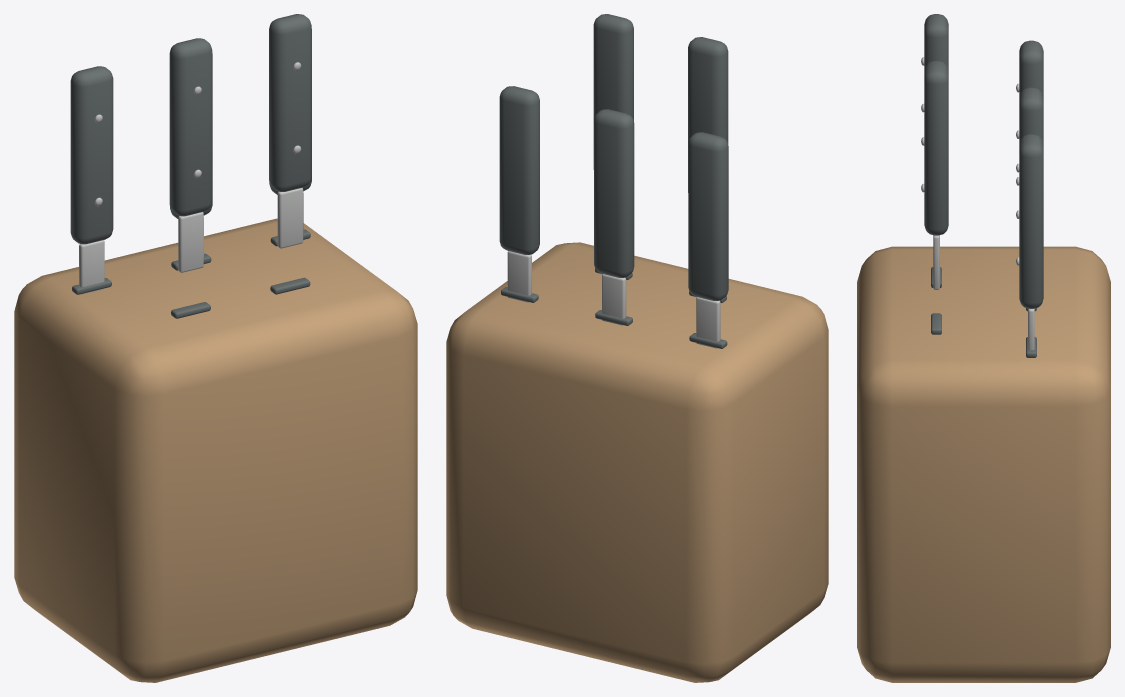
File: knife_block.glb
3 renders of one model, left to right at view 1: azimuth 30°, elevation 25°; view 2: azimuth 150°, elevation 25°; view 3: azimuth 270°, elevation 25°, orthographic. The views are drawn at different scales.
Visible parts, largest first — view 1: knife_block__body, knife_block__accent, knife_block__metal; view 2: knife_block__body, knife_block__accent, knife_block__metal; view 3: knife_block__body, knife_block__accent, knife_block__metal.
Part boxes in pixels (x1,y1,x2,y2): knife_block__body: (14, 218, 417, 682); knife_block__accent: (70, 14, 311, 318); knife_block__metal: (79, 62, 303, 294); knife_block__body: (446, 242, 828, 682); knife_block__accent: (499, 14, 728, 348); knife_block__metal: (507, 251, 720, 348); knife_block__body: (857, 246, 1110, 682); knife_block__accent: (924, 14, 1043, 357); knife_block__metal: (921, 57, 1034, 349).
Bounding box in the file's own units: 0.15 × 0.291 × 0.115.
